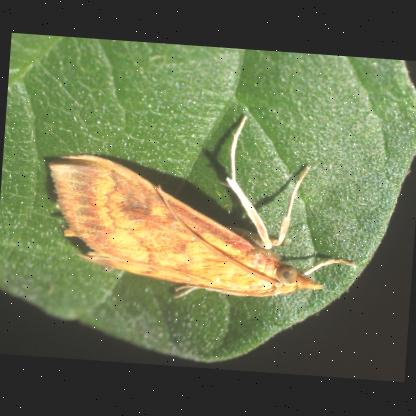Asian Corn Borer Moth: (35, 98, 370, 314)
